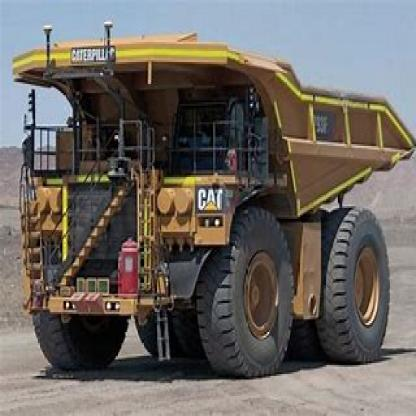dump_truck: (8, 31, 398, 363)
